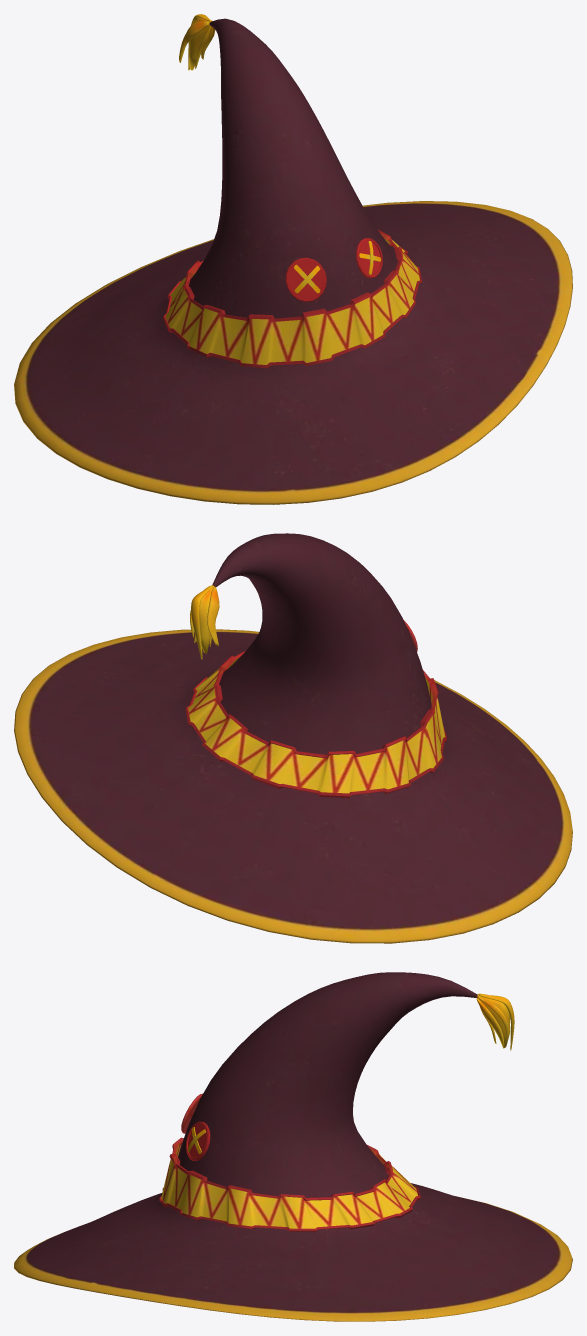
The model's file is hat.glb.
The picture shows the model from 3 angles, top to bottom: view 1: azimuth 30°, elevation 25°; view 2: azimuth 150°, elevation 25°; view 3: azimuth 270°, elevation 25°; orthographic projection.
Parts seen in each view (by area): view 1: defaultMaterial; view 2: defaultMaterial; view 3: defaultMaterial.
Boxes of the visible parts, left/top/right/bottom form: defaultMaterial: left=14, top=14, right=572, bottom=504; defaultMaterial: left=14, top=533, right=572, bottom=943; defaultMaterial: left=14, top=972, right=572, bottom=1321.
Size of the model in its own units: 2 by 1.3 by 1.99.
1 material, 1 textured.
